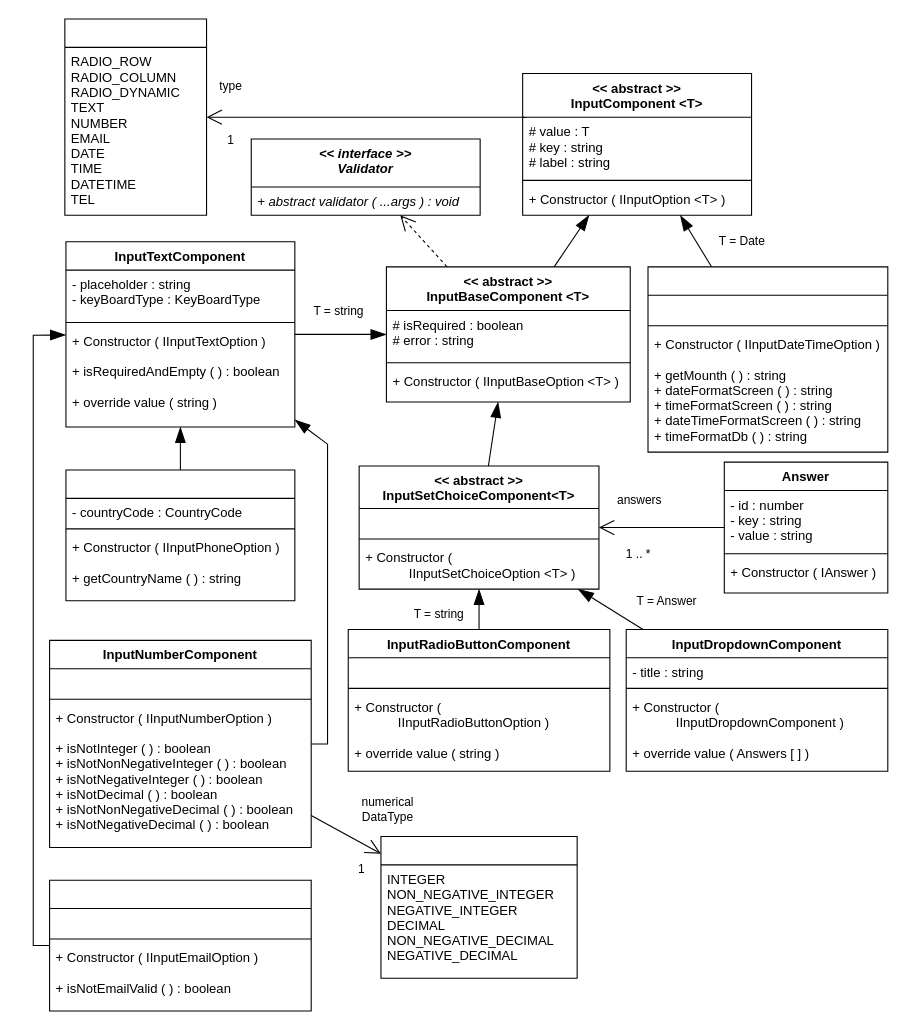
This 907x1033 diagram has some shape labels left out. The box of each missing label's shape, as (x1, y1, x2, y2) in pixels:
EInputType: (64, 18, 207, 215)
ENumericalDataType: (380, 835, 577, 978)
InputDateTimeComponent: (647, 266, 888, 452)
InputEmailComponent: (49, 879, 311, 1011)
InputPhoneComponent: (65, 469, 295, 601)
